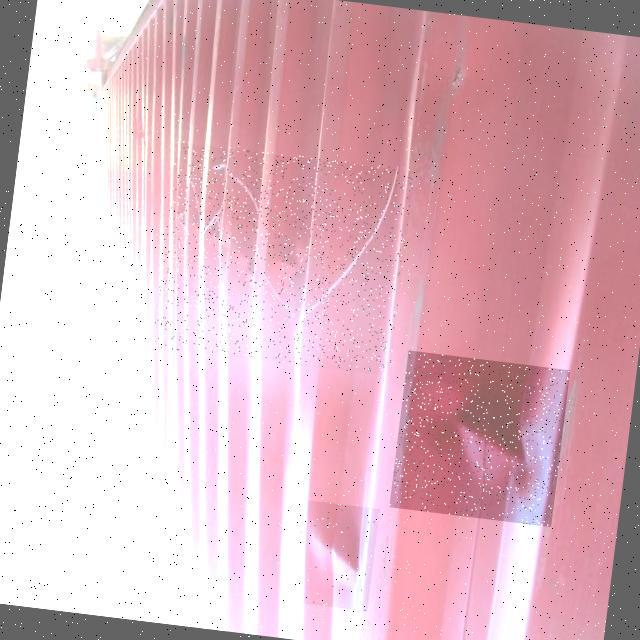Dent: (151, 140, 415, 376)
Minor-Dent: (389, 350, 570, 527), (288, 499, 380, 611)
